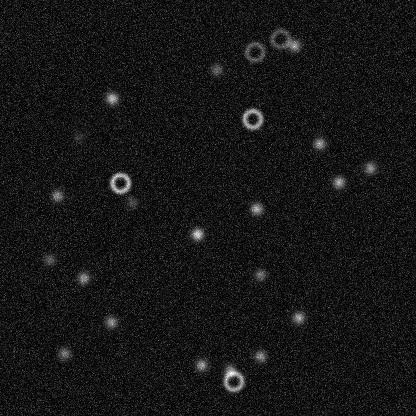Ring: (240, 106, 264, 130), (242, 39, 266, 63), (221, 369, 245, 393), (108, 170, 132, 194), (268, 26, 292, 50)
Spot: (208, 61, 224, 77), (290, 309, 306, 325), (286, 37, 302, 53), (49, 187, 65, 203), (75, 269, 91, 285), (248, 200, 264, 216), (311, 135, 327, 151), (362, 159, 378, 175), (124, 194, 140, 210), (189, 226, 205, 242), (56, 345, 72, 361), (193, 356, 209, 372), (330, 174, 346, 190), (102, 314, 118, 330), (221, 361, 237, 377), (252, 348, 268, 364), (103, 90, 119, 106), (252, 266, 268, 282), (41, 251, 57, 267), (70, 128, 86, 144)
